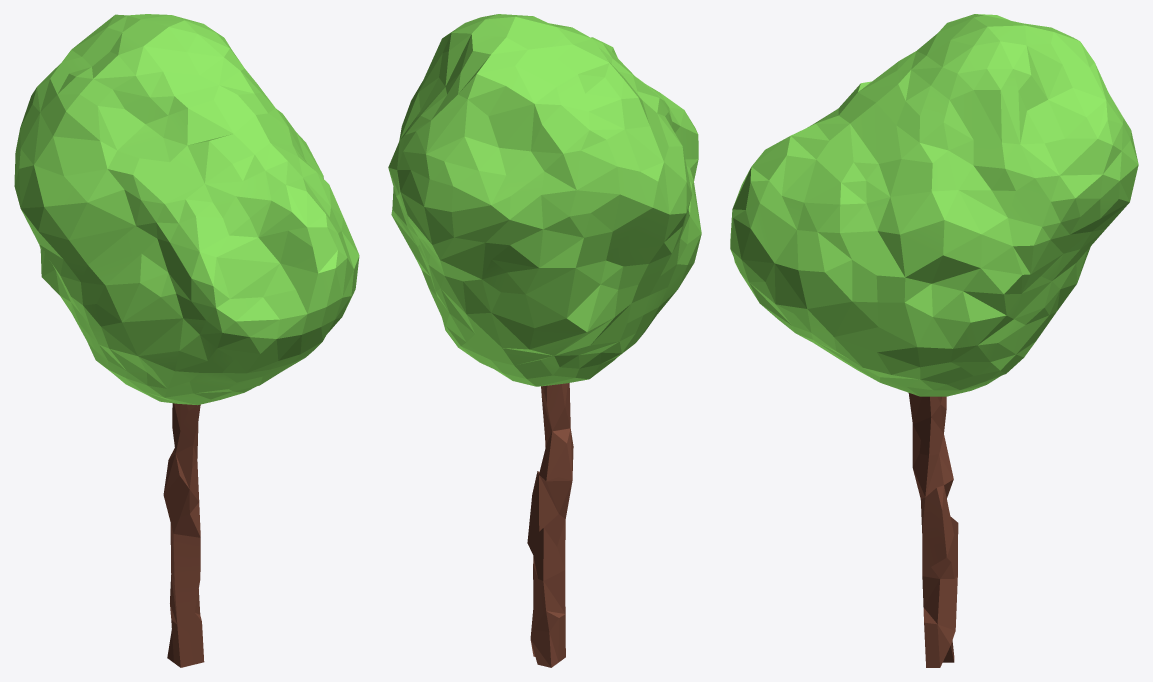
Rendered from TreeGreen02.fbx.
The picture shows the model from 3 angles, left to right: view 1: azimuth 30°, elevation 25°; view 2: azimuth 150°, elevation 25°; view 3: azimuth 270°, elevation 25°; orthographic projection. The views are drawn at different scales.
Parts seen in each view (by area): view 1: TreeGreen02; view 2: TreeGreen02; view 3: TreeGreen02.
Boxes of the visible parts, x1,y1,x2,y2 form: TreeGreen02: (14, 14, 359, 667); TreeGreen02: (388, 14, 701, 667); TreeGreen02: (730, 14, 1138, 667).
Size of the model in its own units: 1150 by 2523 by 1463.
